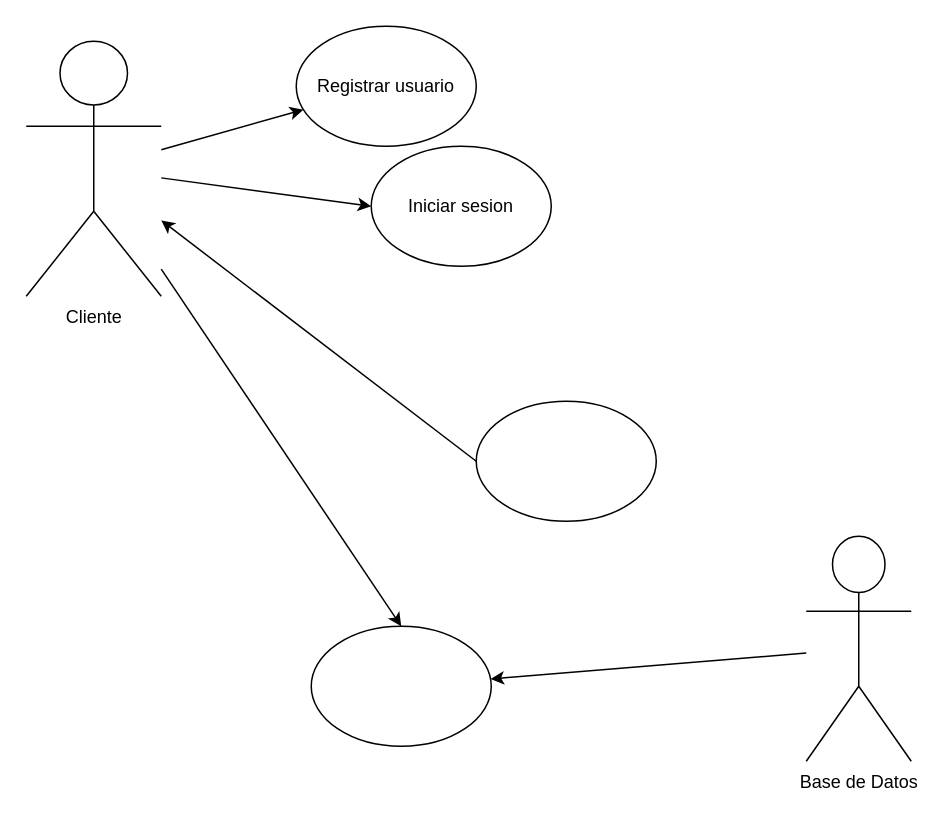
This 944x819 diagram has some shape labels left out. Each missing label, with the box of its shape:
Actualizar perfil del cliente: (475, 400, 656, 521)
Consultar historial de pedidos: (310, 625, 491, 746)
